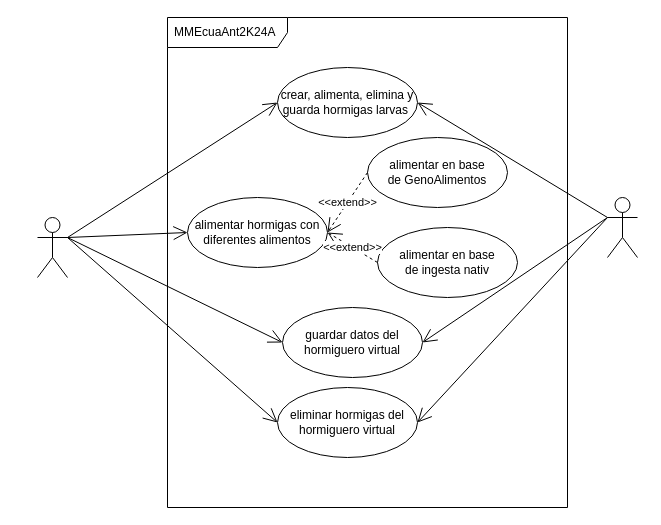
Some shapes in this 661 by 525 pixel diagram are drawn without their labels. Each missing label, with the centre of its shape:
"Entomólogos" belongs at point 52,247.
"Sistema" belongs at point 622,227.
